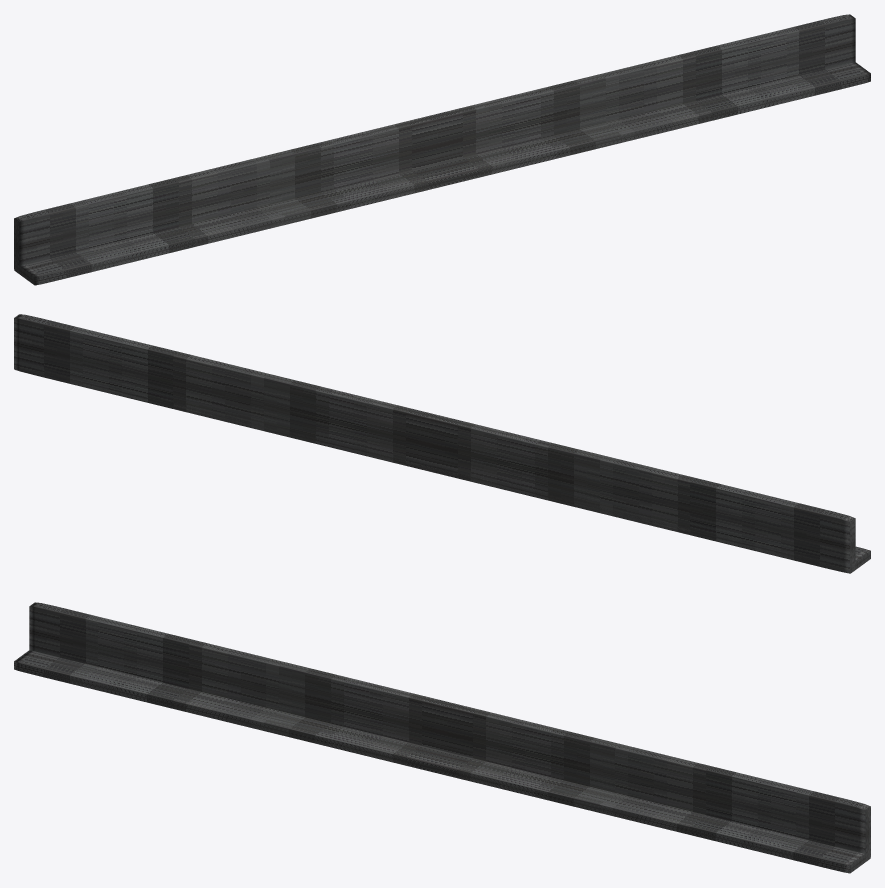
The model's file is guard-strip.glb.
3 views of the same model, one above another, from view 1: azimuth 30°, elevation 25°; view 2: azimuth 150°, elevation 25°; view 3: azimuth 330°, elevation 25° (orthographic).
Parts seen in each view (by area): view 1: web, return; view 2: web, return; view 3: web, return.
Boxes of the visible parts, x1,y1,x2,y2 form: web: [14, 14, 855, 272]; return: [14, 62, 870, 285]; web: [14, 314, 855, 572]; return: [14, 368, 870, 573]; web: [29, 602, 870, 860]; return: [14, 650, 870, 873].
Size of the model in its own units: 1.8 by 0.11 by 0.08.
Materials: 1 (1 with a texture image).
